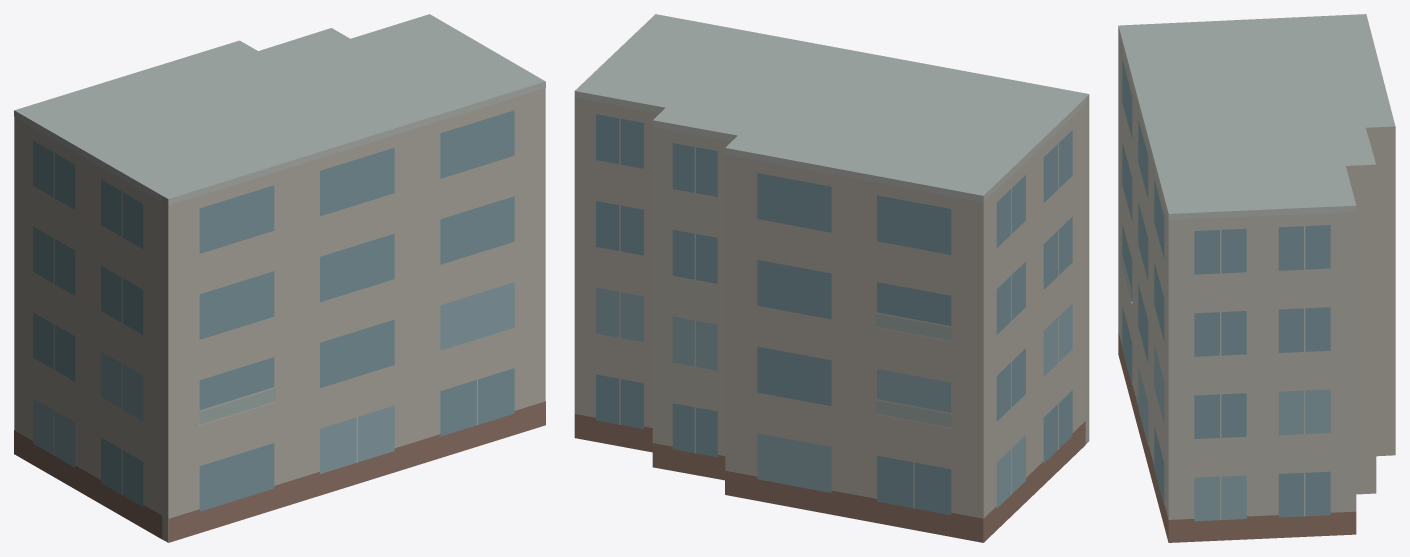
The model's file is survey-upis-32919415.glb.
The picture shows the model from 3 angles, left to right: view 1: azimuth 30°, elevation 25°; view 2: azimuth 150°, elevation 25°; view 3: azimuth 270°, elevation 25°; orthographic projection. The views are drawn at different scales.
Parts seen in each view (by area): view 1: survey-upis-32919415.tmp; view 2: survey-upis-32919415.tmp; view 3: survey-upis-32919415.tmp.
Part boxes in pixels (<box>): survey-upis-32919415.tmp: <box>14,14,545,542</box>; survey-upis-32919415.tmp: <box>574,14,1089,542</box>; survey-upis-32919415.tmp: <box>1118,14,1395,542</box>.
Size of the model in its own units: 16.83 by 12.9 by 9.86.
